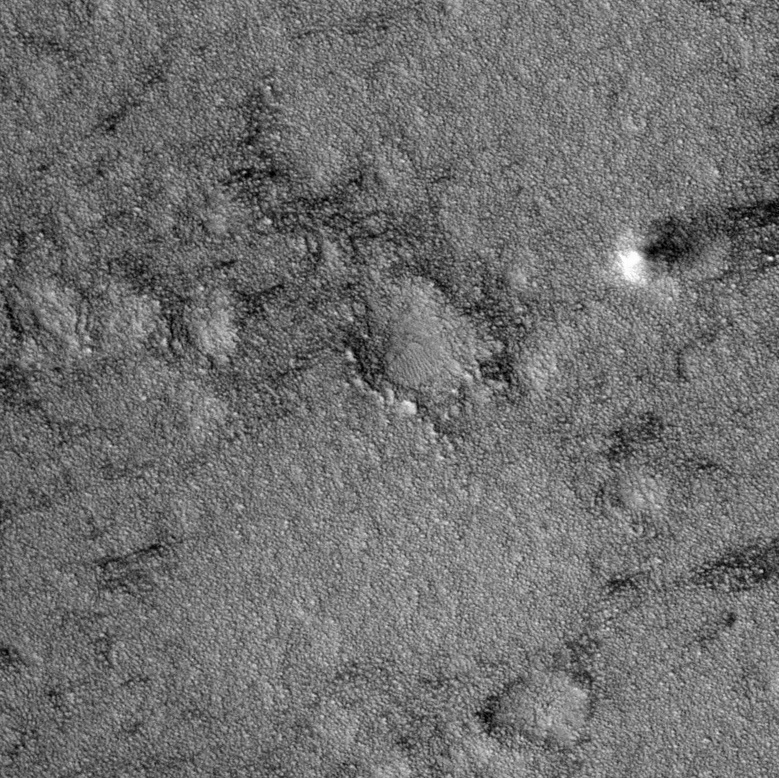dust_devil: (615, 197, 779, 288)
